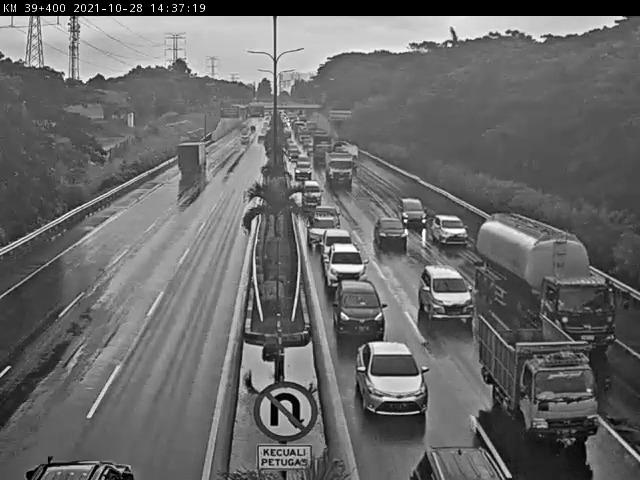big truck: (471, 210, 617, 351), (174, 140, 210, 174), (326, 153, 353, 185)
car: (354, 343, 434, 420), (417, 265, 474, 326), (332, 280, 390, 338), (409, 448, 506, 480), (322, 242, 373, 295), (430, 214, 473, 250), (319, 228, 354, 260), (304, 213, 337, 243), (399, 197, 428, 228), (315, 205, 344, 231), (372, 212, 402, 236), (301, 181, 325, 207), (292, 158, 315, 178)
small truck: (477, 313, 599, 447)
